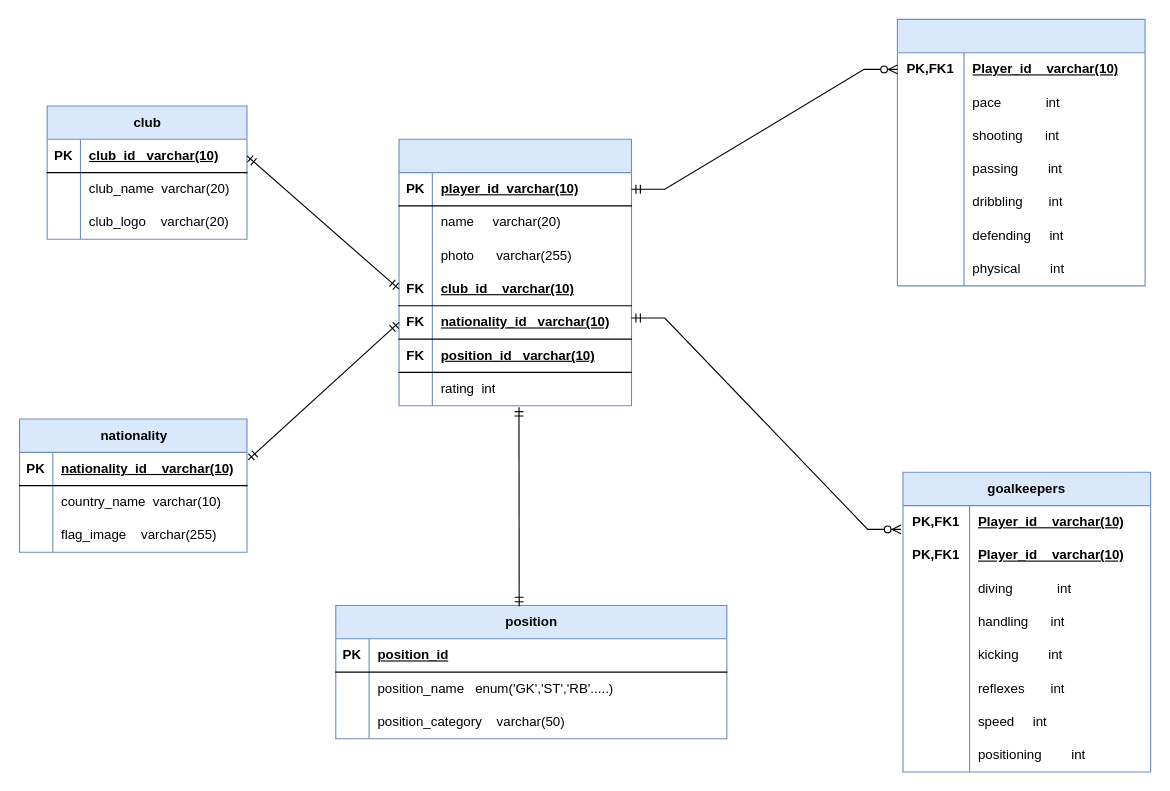
The diagram is 1170 pixels wide and 791 high, and some of its shapes have lost their labels. The shapes that lost their labels are listed below. From the top down, each one's box as (x1, y1, x2, y2) in pixels, then its label:
(896, 18, 1145, 286): outfield_players
(398, 138, 631, 406): Players
